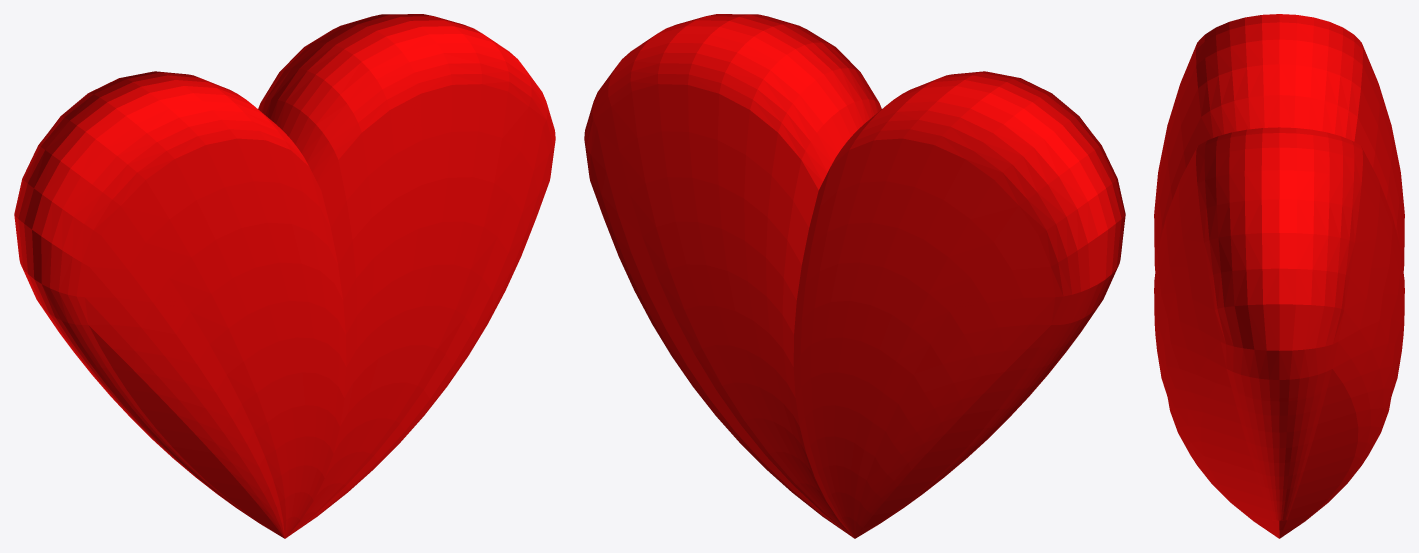
Rendered from Heart3.obj.
3 renders of one model, left to right at view 1: azimuth 30°, elevation 25°; view 2: azimuth 150°, elevation 25°; view 3: azimuth 270°, elevation 25°, orthographic. The views are drawn at different scales.
Visible parts, largest first — view 1: Mesh2 Group3 Group1 Model, Mesh1 Group2 Group1 Model; view 2: Mesh2 Group3 Group1 Model, Mesh1 Group2 Group1 Model; view 3: Mesh1 Group2 Group1 Model, Mesh2 Group3 Group1 Model.
Boxes of the visible parts, bbox=[...] form: Mesh2 Group3 Group1 Model: bbox=[14, 71, 346, 538]; Mesh1 Group2 Group1 Model: bbox=[258, 14, 555, 538]; Mesh2 Group3 Group1 Model: bbox=[793, 71, 1125, 538]; Mesh1 Group2 Group1 Model: bbox=[584, 14, 881, 538]; Mesh1 Group2 Group1 Model: bbox=[1154, 127, 1404, 538]; Mesh2 Group3 Group1 Model: bbox=[1154, 14, 1404, 270].
Bounding box in the file's own units: 1127 × 1020 × 511.
